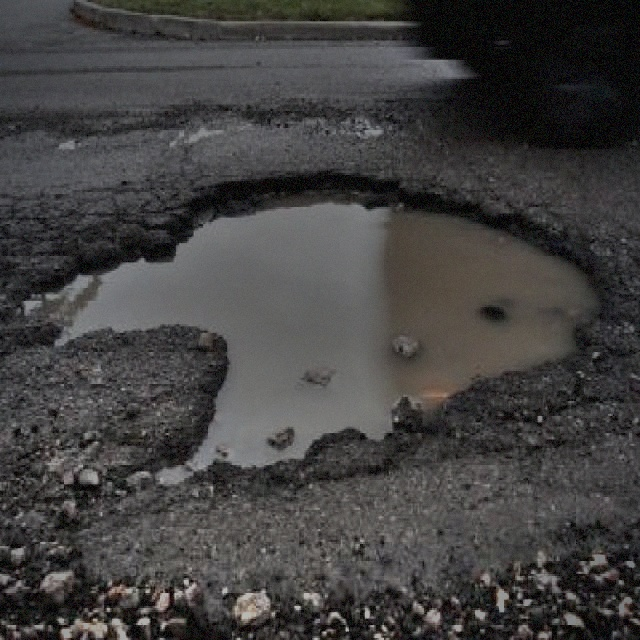pothole: (10, 160, 611, 493)
